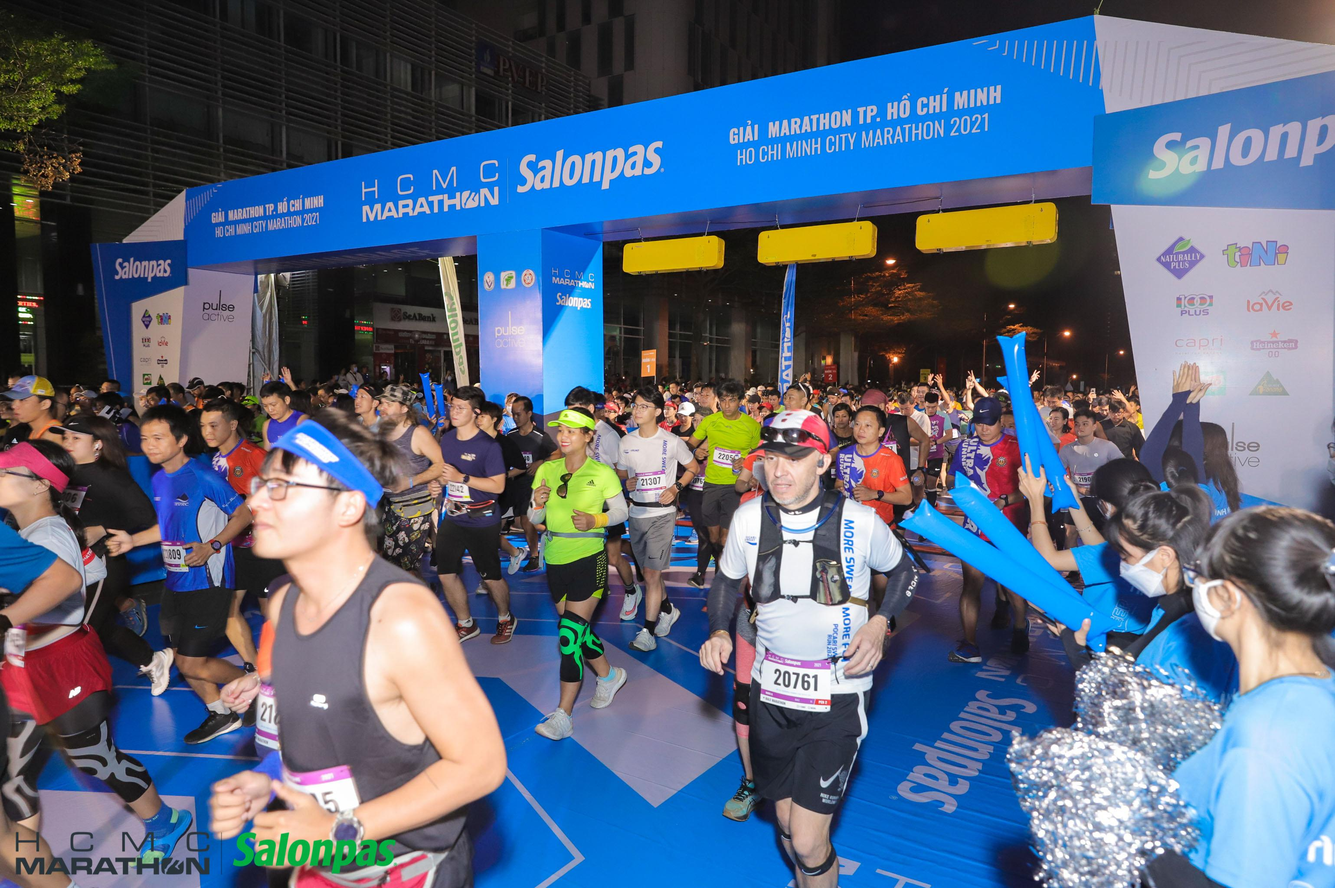bib: (759, 649, 832, 712), (280, 769, 358, 821), (252, 682, 284, 756), (156, 539, 188, 573), (633, 469, 666, 491), (708, 447, 740, 468), (445, 480, 469, 500), (1069, 470, 1093, 486)
